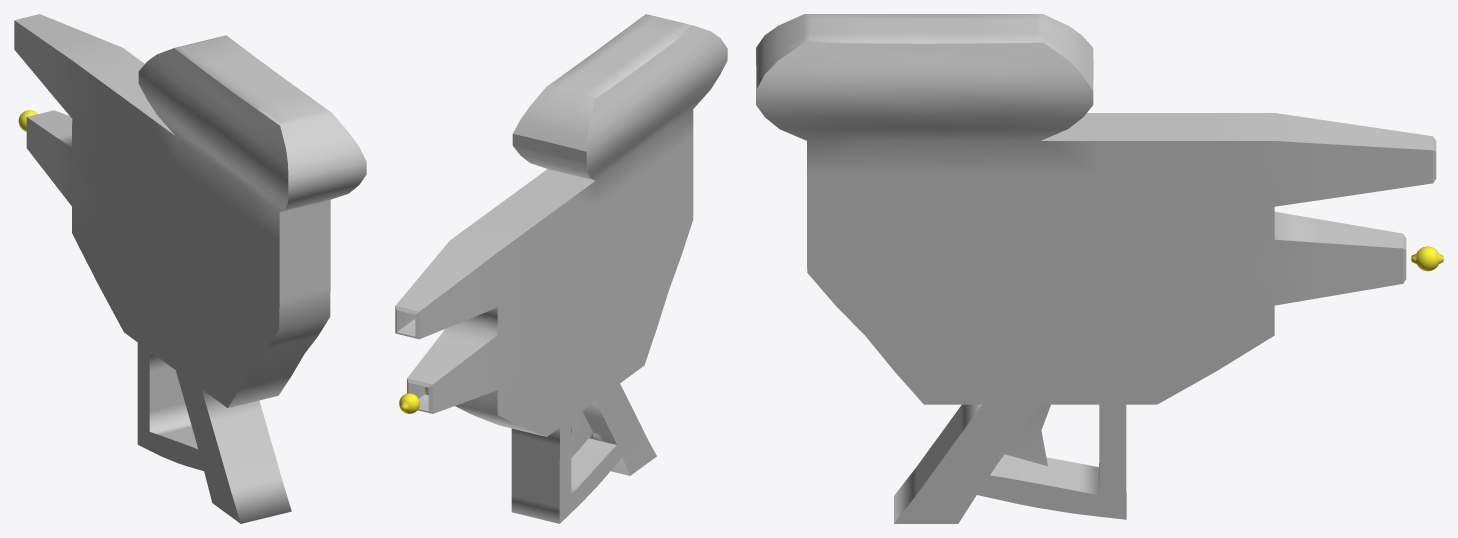
File: bush_Weapon1.FBX
3 views of the same model, side by side, from view 1: azimuth 30°, elevation 25°; view 2: azimuth 150°, elevation 25°; view 3: azimuth 270°, elevation 25° (orthographic). The views are drawn at different scales.
Visible parts, largest first — view 1: Box001; view 2: Box001; view 3: Box001.
Part boxes in pixels (x1,y1,x2,y2): Box001: (14, 14, 366, 523); Box001: (395, 14, 727, 523); Box001: (756, 14, 1436, 523).
Bounding box in the file's own units: 77.74 × 407 × 524.
